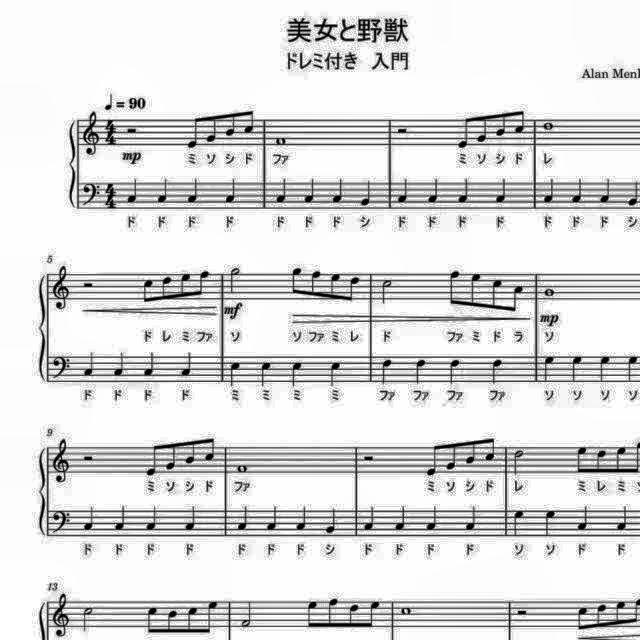Bass-clef: (52, 505, 76, 535), (50, 352, 74, 381), (80, 178, 102, 208)
Eighth-note: (443, 266, 461, 310), (142, 441, 162, 479), (455, 112, 473, 150), (183, 113, 201, 151), (423, 441, 441, 479), (203, 596, 220, 636), (470, 269, 486, 311), (304, 596, 322, 632), (143, 602, 161, 638), (488, 274, 504, 314), (364, 597, 382, 631), (286, 264, 304, 298), (509, 283, 526, 317), (444, 439, 461, 473), (324, 596, 340, 632), (476, 110, 492, 146), (572, 604, 590, 636), (164, 438, 180, 474), (182, 434, 198, 468), (184, 603, 200, 637), (204, 112, 220, 146), (176, 268, 192, 302), (572, 441, 588, 475), (462, 436, 478, 468), (326, 270, 342, 302), (308, 268, 324, 300), (346, 272, 362, 304), (160, 272, 176, 304), (196, 268, 212, 300), (202, 433, 218, 465), (614, 598, 630, 630), (614, 444, 630, 476), (594, 600, 610, 632), (140, 275, 156, 307), (346, 601, 362, 631), (594, 447, 610, 477), (482, 434, 498, 464), (494, 110, 508, 140), (223, 110, 237, 140), (242, 107, 256, 137), (164, 608, 178, 638), (513, 107, 527, 137), (632, 436, 640, 476), (632, 596, 640, 628)
Full-note: (233, 460, 250, 476), (399, 603, 416, 617), (540, 284, 556, 298), (540, 119, 556, 133), (272, 134, 290, 146)
Half-note: (378, 276, 396, 308), (511, 446, 529, 478), (237, 600, 255, 632), (79, 602, 97, 634), (225, 264, 242, 296)
Half-rest: (123, 122, 141, 138), (394, 124, 411, 140), (81, 451, 99, 465), (81, 278, 99, 290), (514, 606, 530, 618), (360, 452, 376, 464)
Quarter-note: (264, 502, 282, 534), (539, 508, 557, 540), (445, 357, 463, 387), (412, 357, 430, 387), (181, 503, 199, 533), (378, 357, 396, 387), (184, 175, 202, 205), (488, 357, 506, 387), (327, 359, 345, 389), (330, 174, 348, 204), (232, 502, 250, 532), (424, 175, 442, 205), (258, 359, 276, 389), (140, 349, 158, 378), (462, 502, 478, 534), (624, 352, 640, 384), (326, 504, 342, 536), (358, 178, 374, 210), (616, 502, 632, 534), (223, 175, 240, 205), (424, 503, 441, 533), (494, 175, 511, 205), (540, 352, 556, 383), (228, 359, 245, 388), (576, 504, 592, 534), (512, 508, 528, 538), (568, 354, 584, 384), (456, 175, 472, 205), (144, 504, 160, 534), (596, 352, 612, 382), (154, 178, 170, 208), (397, 178, 413, 208), (540, 175, 556, 205), (112, 503, 128, 533), (392, 503, 408, 533), (111, 348, 127, 378), (361, 504, 377, 534), (597, 175, 613, 205), (300, 178, 316, 208), (274, 178, 290, 208), (126, 175, 142, 205), (293, 504, 309, 534), (568, 175, 584, 205), (80, 349, 96, 379), (288, 358, 304, 388), (80, 505, 96, 535), (182, 349, 198, 378), (625, 176, 639, 208)
Treble-clef: (51, 591, 75, 640), (52, 436, 76, 484), (52, 264, 76, 312), (80, 110, 100, 158)
